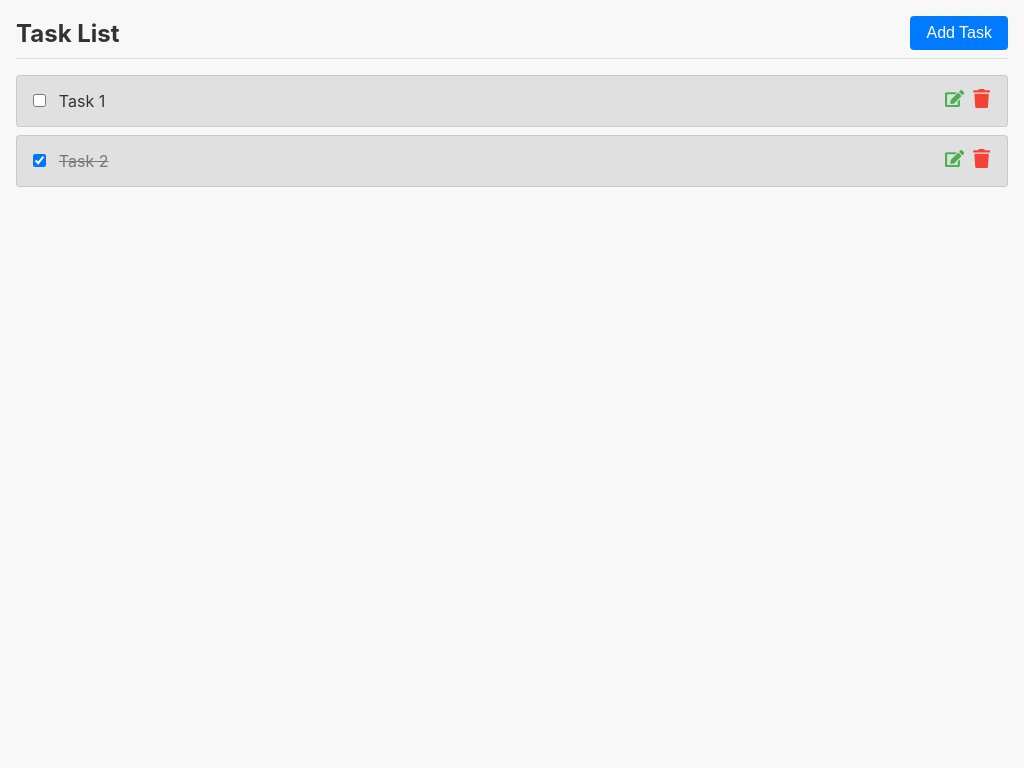
Test: TaskList Component › saves the task when the save button is clicked in the edit modal
Click the button with test id "task-edit-button-1".
click(954, 101)  # box [945,89,964,113]
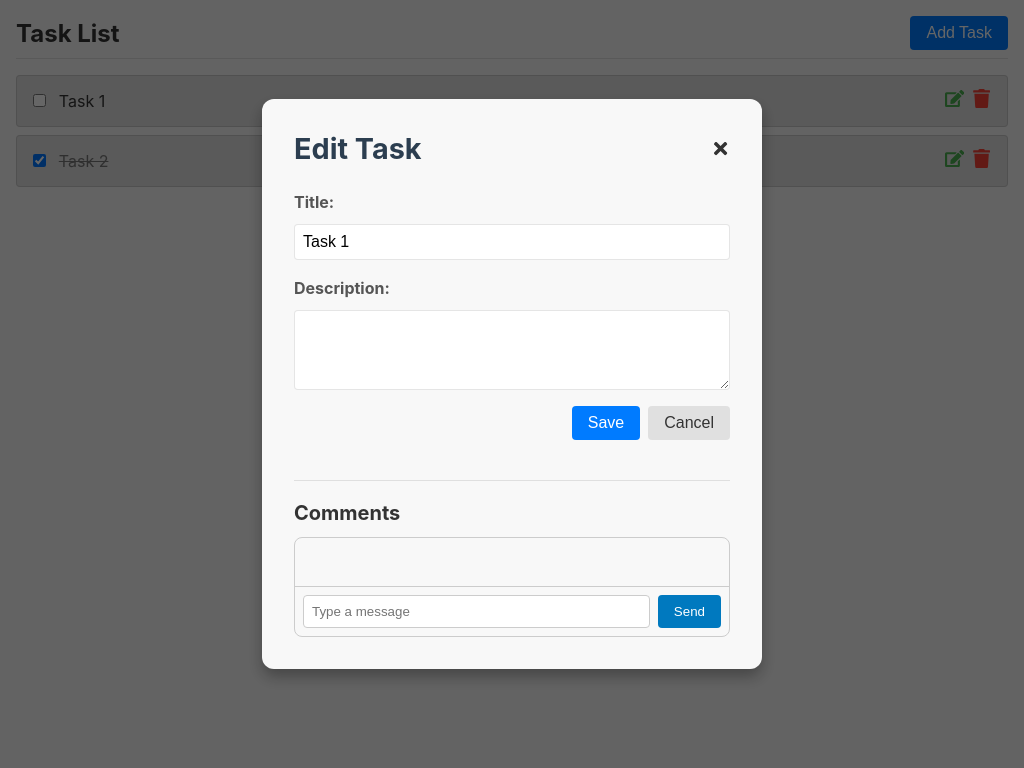
Replace the text in the field with test id "task-title" with "Updated Task" at (512, 242), box [294,224,730,260]
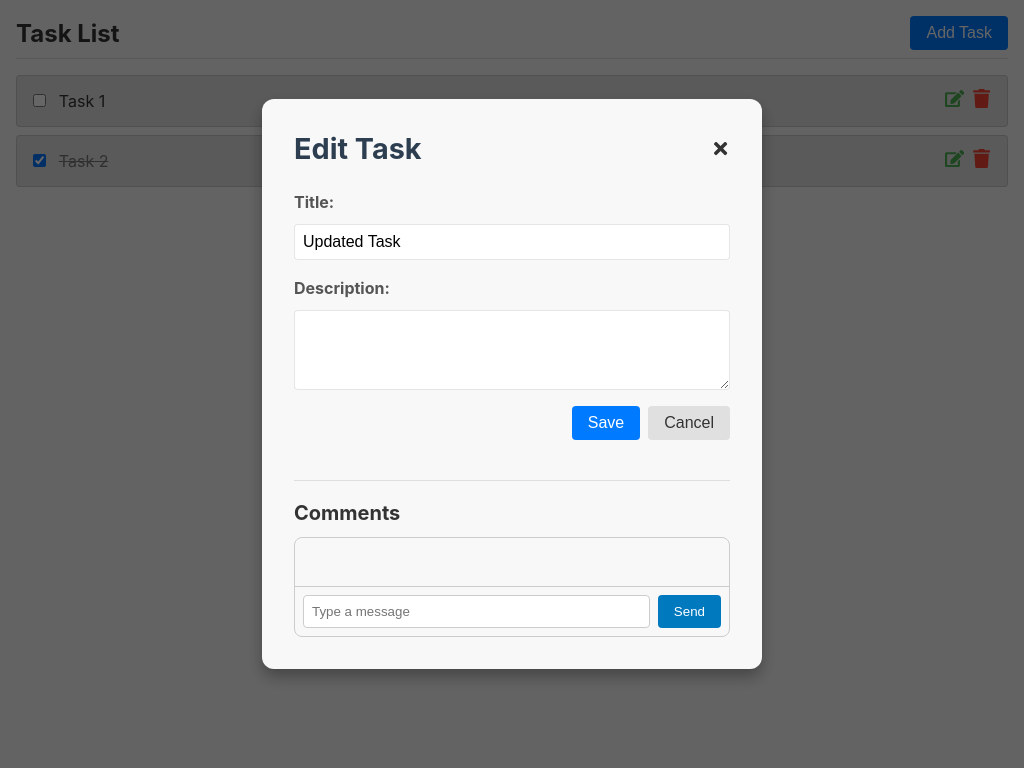
Click the button with test id "task-save-button".
click(606, 423)  # box [572,406,640,440]
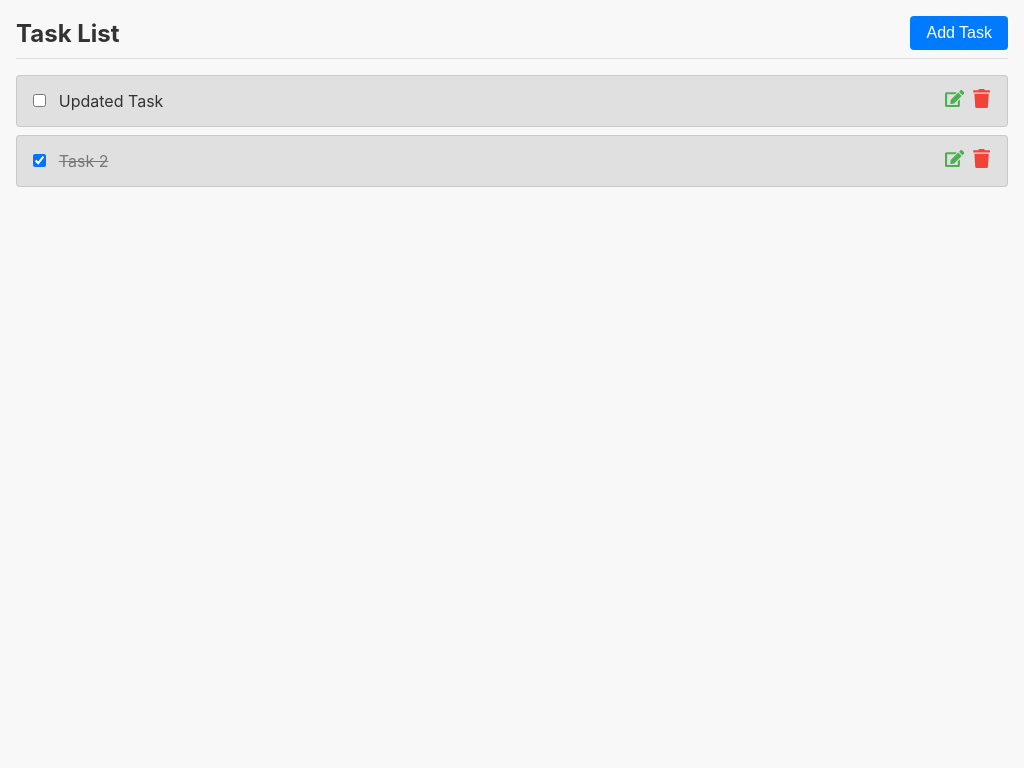
Check: the list item with test id "task-list-item-1" reads "Updated Task", box [59,91,163,111]
